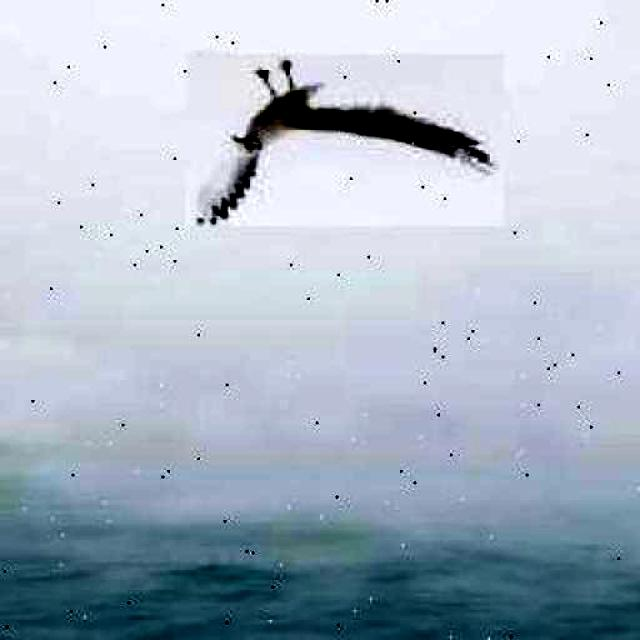airplane: (186, 54, 504, 226)
